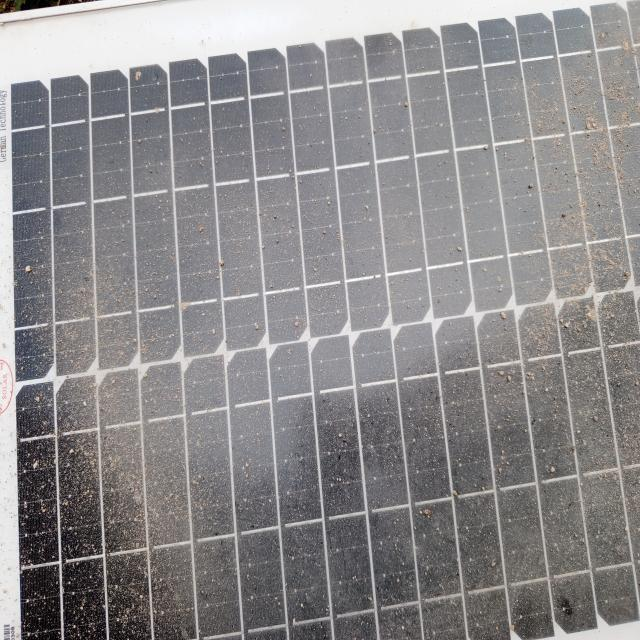Surface Contaminant: (19, 50, 639, 596)
